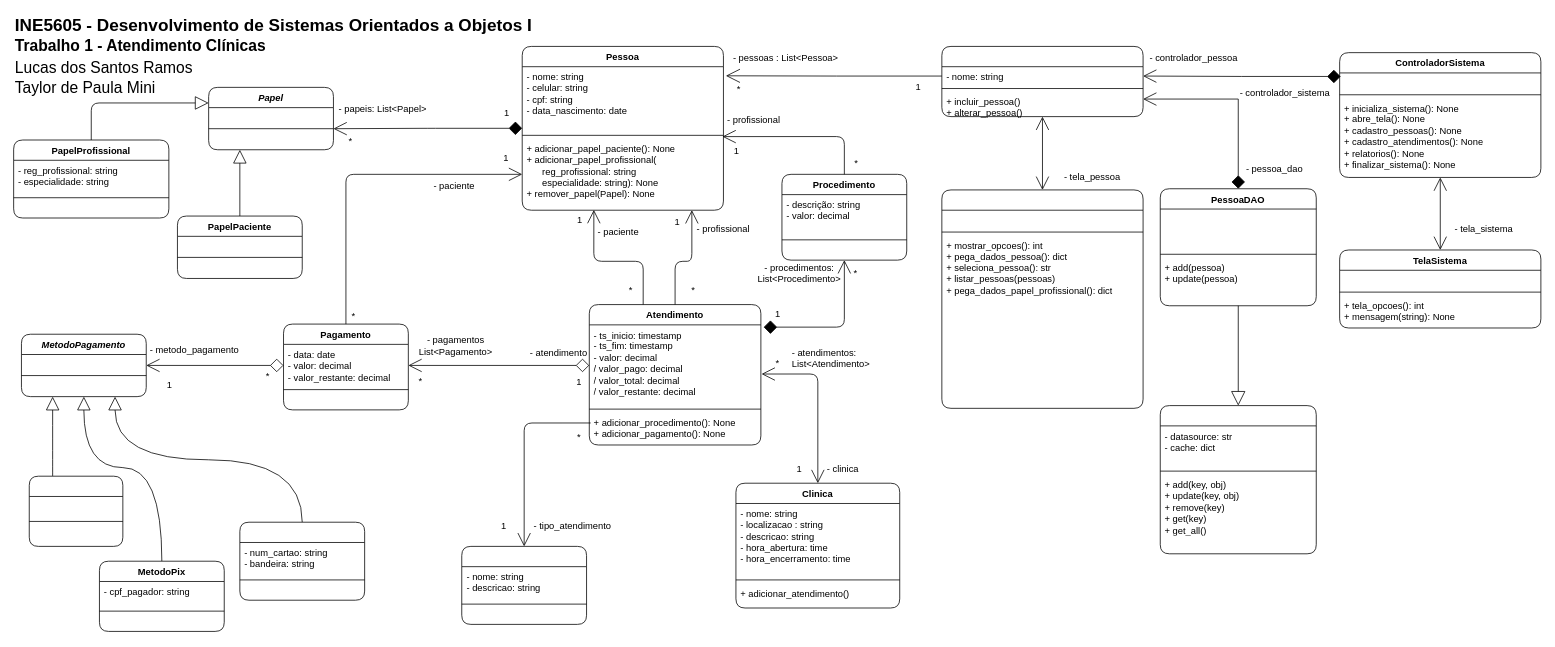
The diagram is 1555 pixels wide and 647 high, and some of its shapes have lost their labels. The box of each missing label's shape, as (x1, y1, x2, y2) in pixels:
ControladorPessoa: (941, 46, 1143, 117)
DAO: (1159, 405, 1316, 554)
MetodoCartao: (239, 521, 365, 600)
MetodoDInheiro: (28, 475, 123, 546)
TelaPessoa: (941, 189, 1143, 408)
TipoAtendimento: (461, 546, 587, 624)
